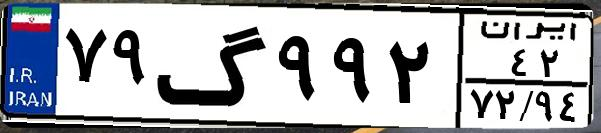2: (385, 28, 445, 110), (537, 27, 568, 80), (495, 70, 520, 125)
4: (560, 70, 590, 125), (508, 27, 537, 80)
7: (57, 26, 110, 100), (470, 70, 495, 125)
9: (270, 28, 330, 110), (330, 28, 385, 110), (110, 28, 156, 98), (535, 70, 560, 125)
گ: (156, 12, 270, 120)
